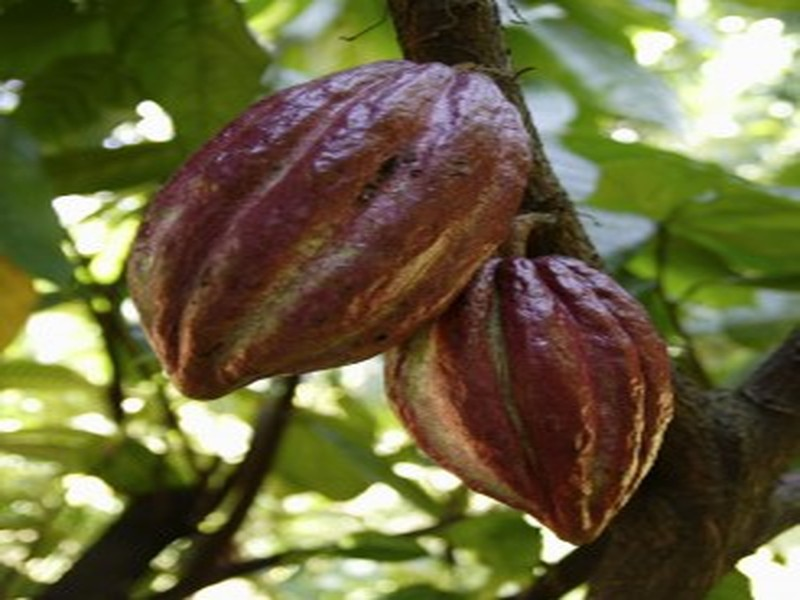Cacaopod: (125, 61, 523, 402), (383, 254, 677, 550)
